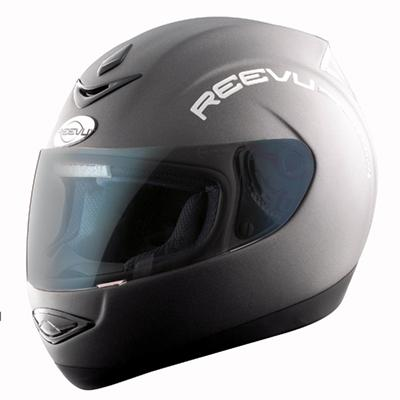helmet: (38, 37, 356, 350)
